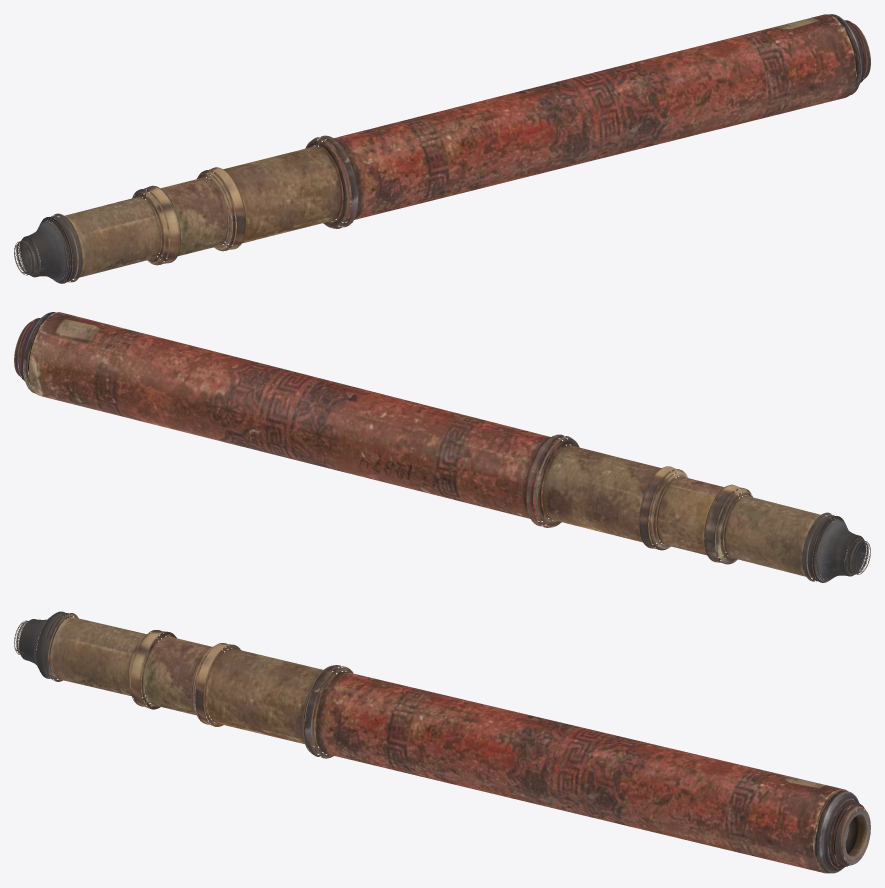
The model's file is luneta-refrator.glb.
3 renders of one model, top to bottom at view 1: azimuth 30°, elevation 25°; view 2: azimuth 150°, elevation 25°; view 3: azimuth 330°, elevation 25°, orthographic.
Parts seen in each view (by area): view 1: luneta-refrator; view 2: luneta-refrator; view 3: luneta-refrator.
Boxes of the visible parts, bbox=[...] form: luneta-refrator: bbox=[14, 14, 870, 283]; luneta-refrator: bbox=[14, 312, 870, 582]; luneta-refrator: bbox=[14, 611, 870, 873].
Size of the model in its own units: 26.62 by 2.6 by 2.59.
1 material, 1 textured.
